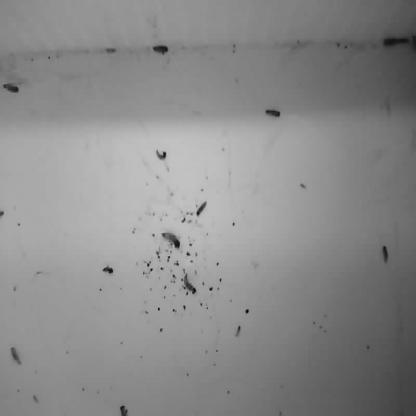PtecticusTenebrifer: (160, 230, 182, 251), (180, 272, 197, 296), (151, 42, 170, 56), (2, 81, 20, 94), (266, 107, 282, 121), (380, 245, 390, 265), (196, 200, 208, 216), (12, 346, 22, 364), (154, 148, 168, 160), (101, 265, 114, 276)
